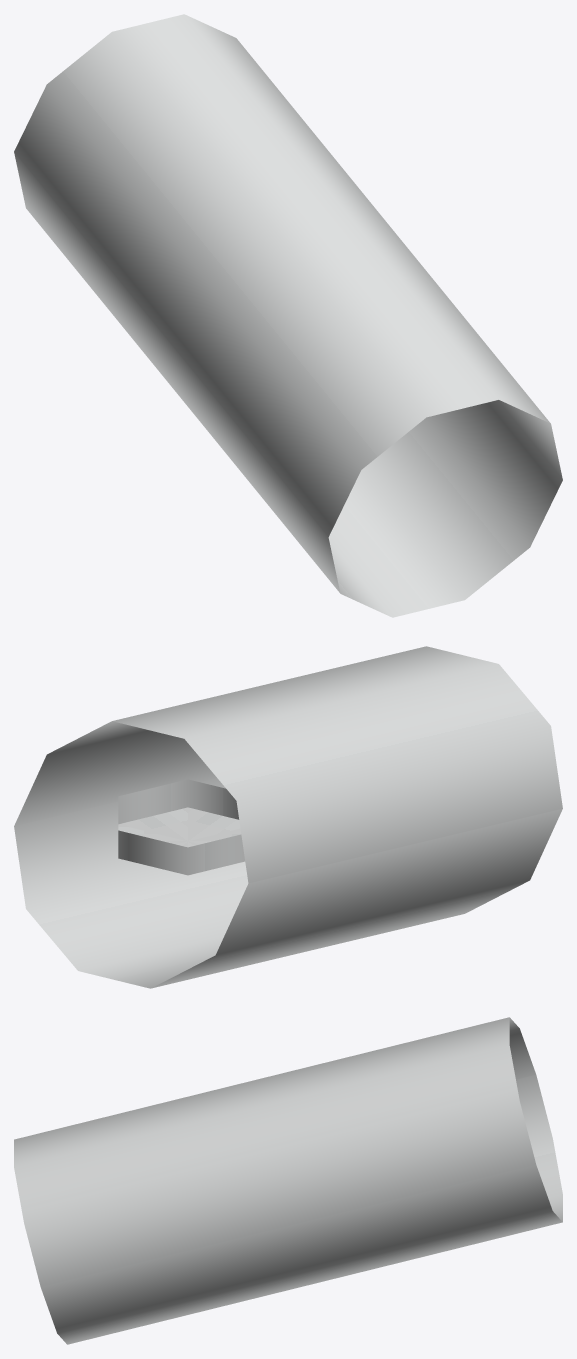
Rendered from trusssignalarm_sloped12_c12.obj.
3 views of the same model, one above another, from view 1: azimuth 30°, elevation 25°; view 2: azimuth 150°, elevation 25°; view 3: azimuth 270°, elevation 25° (orthographic). The views are drawn at different scales.
Visible parts, largest first — view 1: trusssignalarm_sloped12_c12; view 2: trusssignalarm_sloped12_c12; view 3: trusssignalarm_sloped12_c12.
Part boxes in pixels (x1,y1,x2,y2): trusssignalarm_sloped12_c12: (14,14,562,617); trusssignalarm_sloped12_c12: (14,646,562,988); trusssignalarm_sloped12_c12: (14,1017,562,1344).
Bounding box in the file's own units: 0.2625 × 0.4071 × 0.6757.
